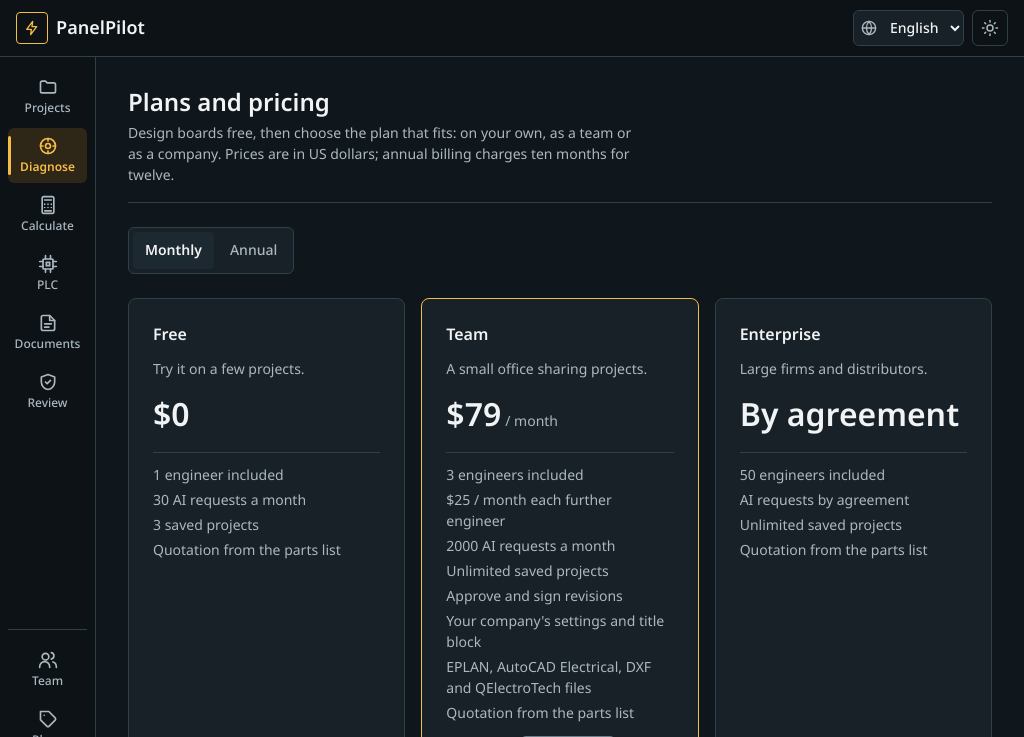
Test case: pricing › shows each plan and switches to annual prices
Expected: the list item with test id "plan-team" shows "$79", x1=446 y1=382 x2=501 y2=450
Expected: the list item with test id "plan-team" shows "2000 AI requests a month", x1=446 y1=532 x2=615 y2=561
Click the radio button labelled "Annual".
click(254, 250)  # box x1=218 y1=232 x2=290 y2=269
(page scrolled)
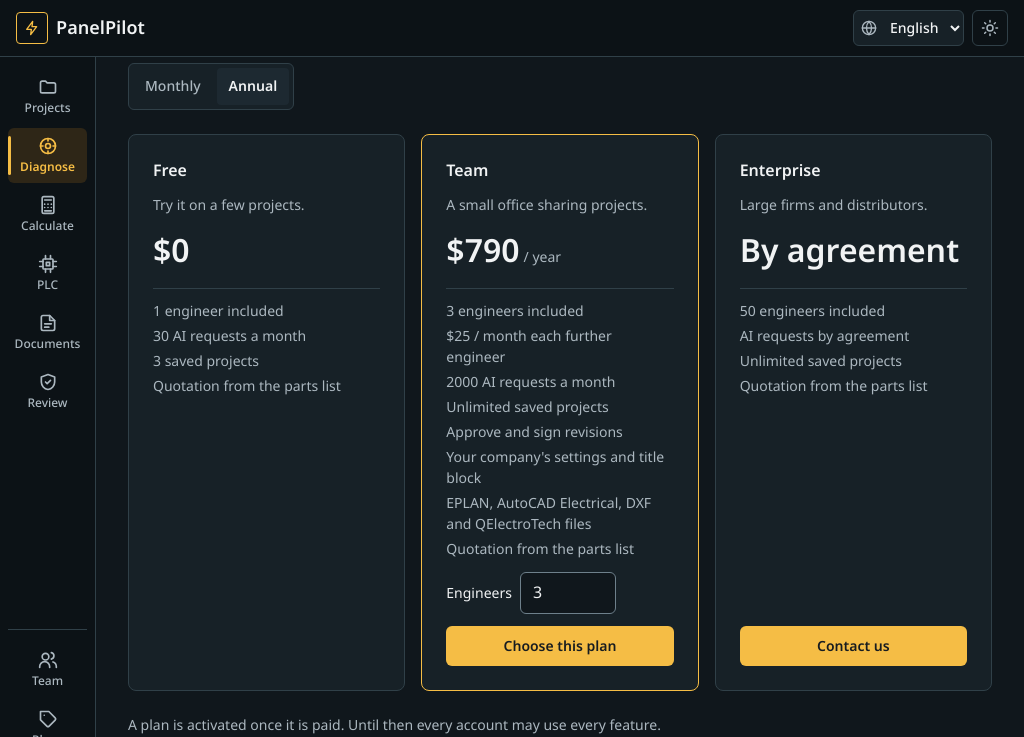
Expected: the list item with test id "plan-team" shows "$790", x1=446 y1=218 x2=520 y2=286
